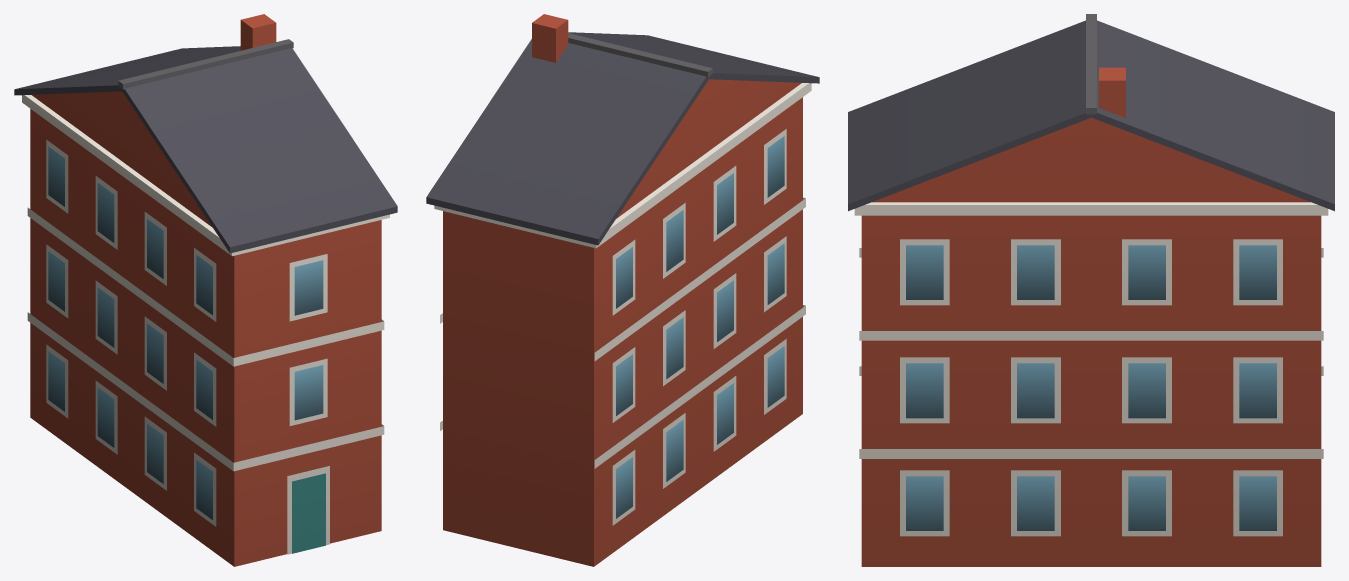
The model's file is beacon_n12_far.glb.
3 renders of one model, left to right at view 1: azimuth 30°, elevation 25°; view 2: azimuth 150°, elevation 25°; view 3: azimuth 270°, elevation 25°, orthographic. The views are drawn at different scales.
Visible parts, largest first — view 1: beacon_n12_far; view 2: beacon_n12_far; view 3: beacon_n12_far.
Part boxes in pixels (bbox=[...]): beacon_n12_far: bbox=[14, 14, 397, 566]; beacon_n12_far: bbox=[426, 14, 819, 566]; beacon_n12_far: bbox=[848, 14, 1334, 566].
Bounding box in the file's own units: 5.8 × 14 × 12.7.
1 material, 1 textured.
